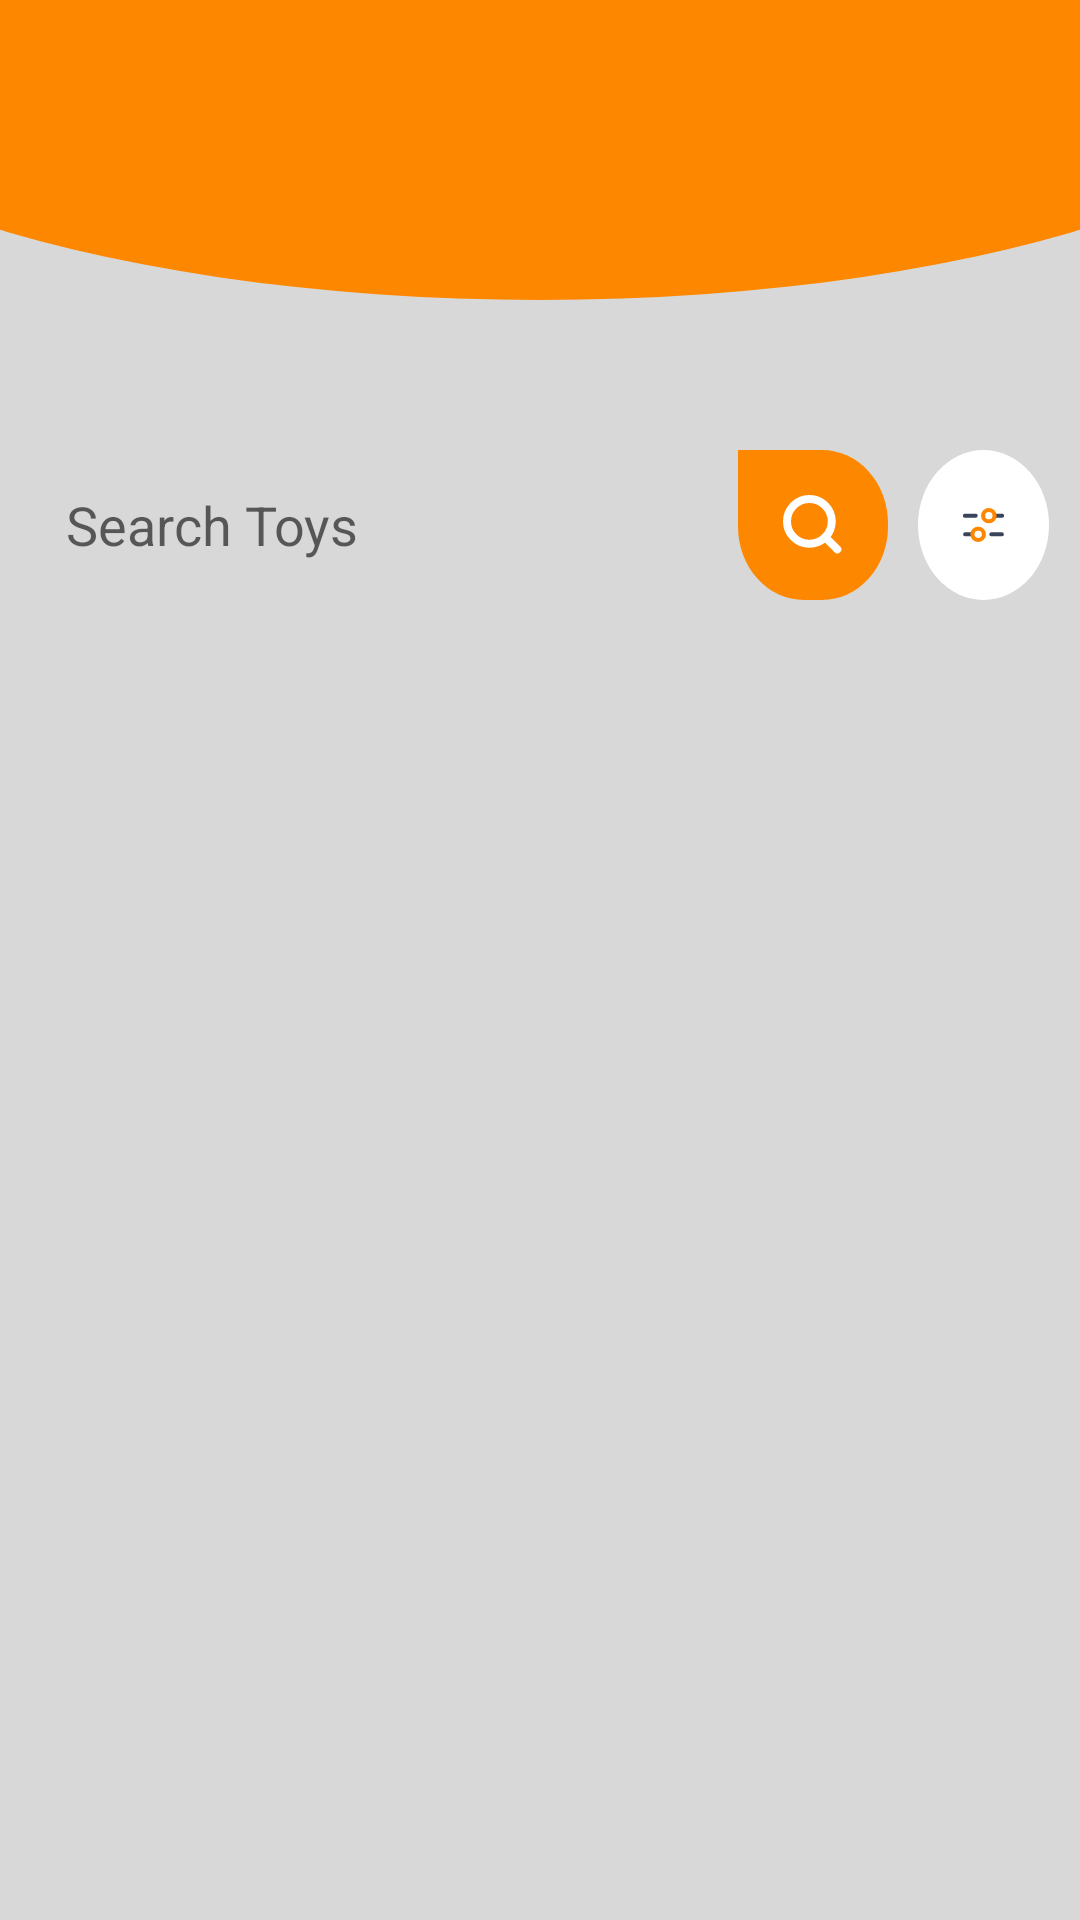

Where to tap for icons on this 1080px×1920px app screen, as [x,y]:
group filter: [983,525]
